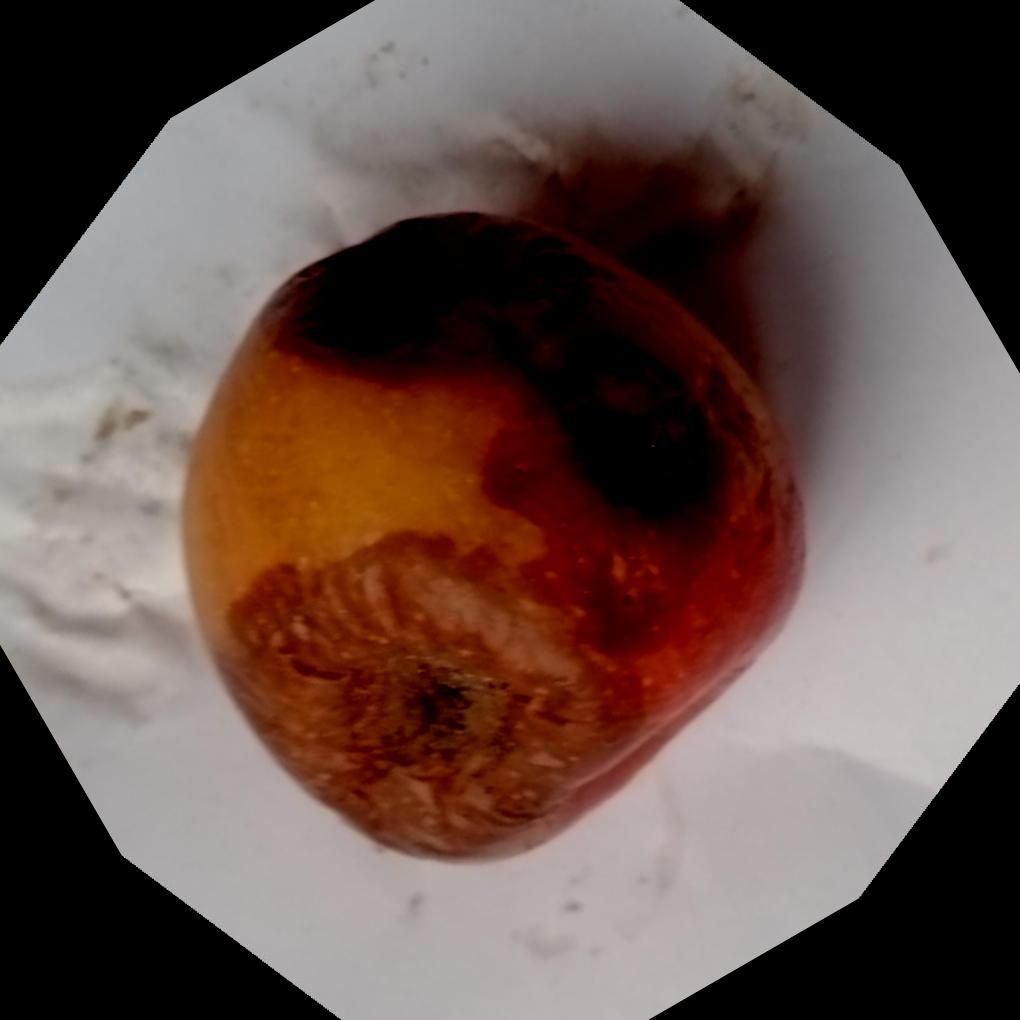FreshOrange: (174, 207, 807, 867)
